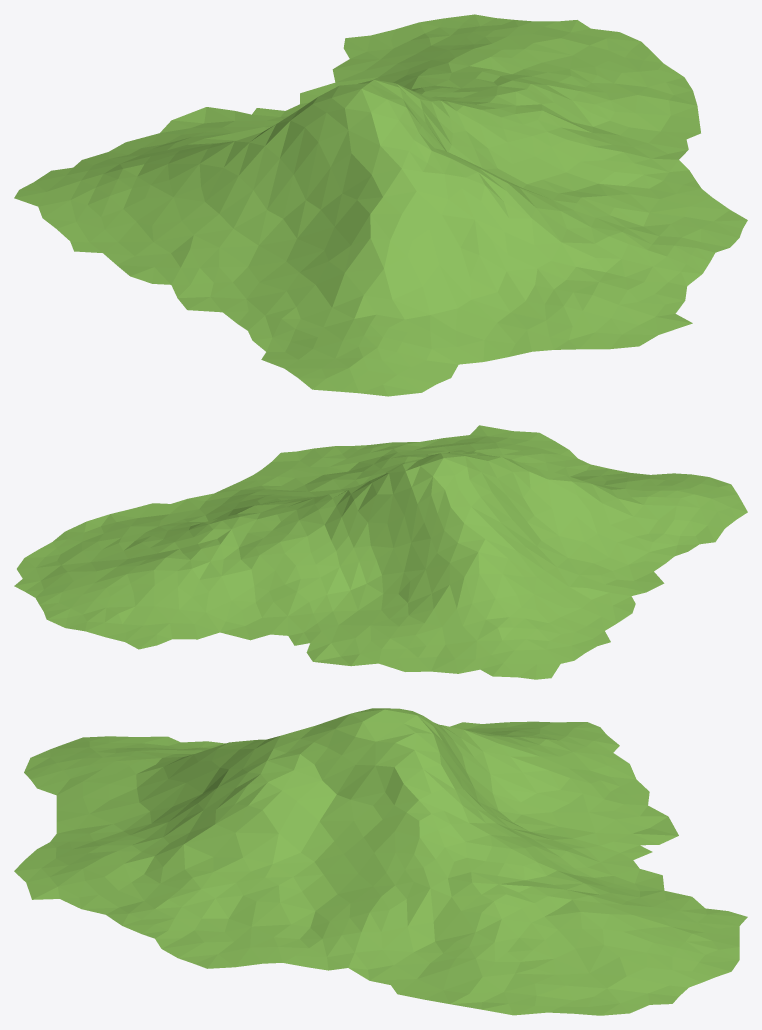
File: MT_Mountain_L_a_26.fbx
The picture shows the model from 3 angles, top to bottom: view 1: azimuth 30°, elevation 25°; view 2: azimuth 150°, elevation 25°; view 3: azimuth 270°, elevation 25°; orthographic projection. The views are drawn at different scales.
Parts seen in each view (by area): view 1: MT_Mountain_L_a_26; view 2: MT_Mountain_L_a_26; view 3: MT_Mountain_L_a_26.
Part boxes in pixels (x1,y1,x2,y2): MT_Mountain_L_a_26: (14,14,747,396); MT_Mountain_L_a_26: (14,425,747,679); MT_Mountain_L_a_26: (14,708,747,1015).
Size of the model in its own units: 8280 by 1662 by 8750.
